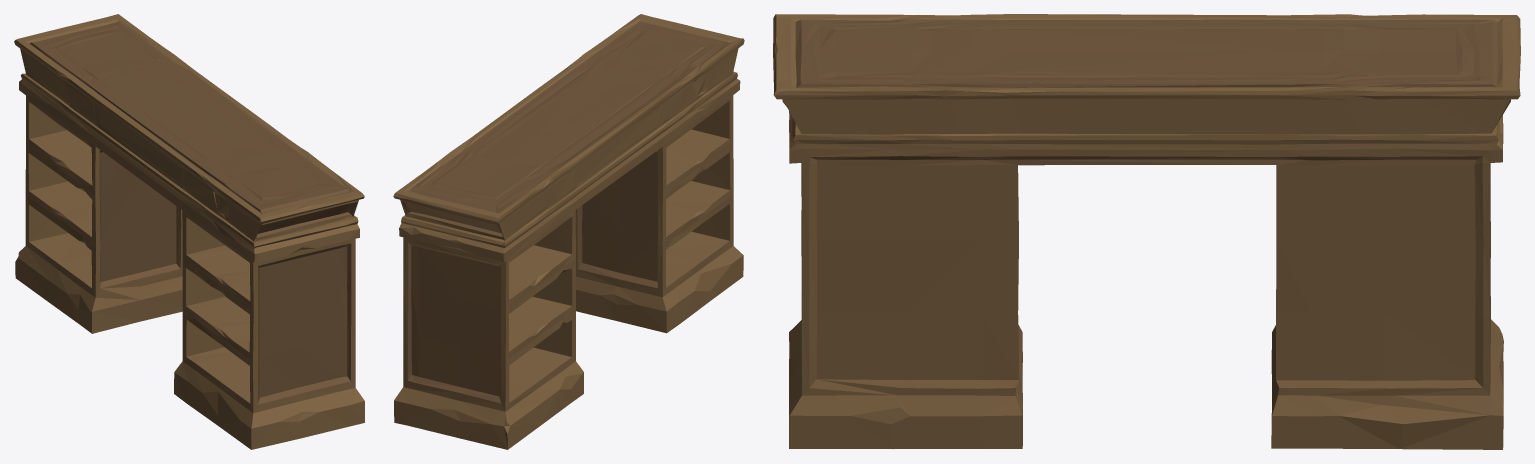
Rendered from SFI_Desk_Mirror.fbx.
3 views of the same model, side by side, from view 1: azimuth 30°, elevation 25°; view 2: azimuth 150°, elevation 25°; view 3: azimuth 270°, elevation 25° (orthographic). The views are drawn at different scales.
Parts seen in each view (by area): view 1: SFI_Desk_Mirror; view 2: SFI_Desk_Mirror; view 3: SFI_Desk_Mirror.
Boxes of the visible parts, x1=… form: SFI_Desk_Mirror: x1=14, y1=14, x2=364, y2=449; SFI_Desk_Mirror: x1=393, y1=14, x2=744, y2=449; SFI_Desk_Mirror: x1=773, y1=14, x2=1520, y2=449.
Size of the model in its own units: 51.61 by 100 by 191.
